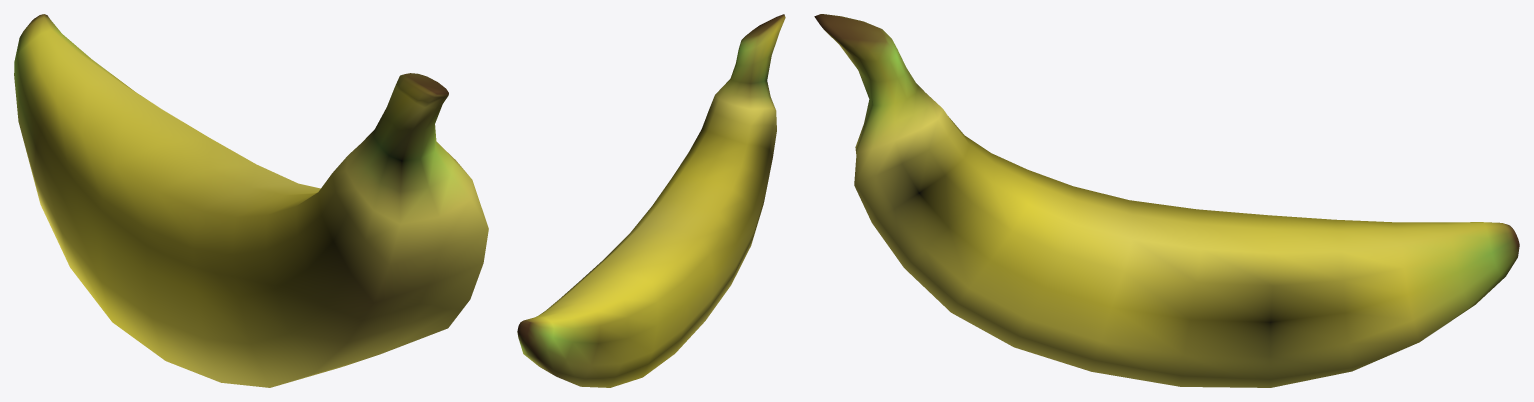
The model's file is Banana.fbx.
The picture shows the model from 3 angles, left to right: view 1: azimuth 30°, elevation 25°; view 2: azimuth 150°, elevation 25°; view 3: azimuth 270°, elevation 25°; orthographic projection. The views are drawn at different scales.
Visible parts, largest first — view 1: Cube; view 2: Cube; view 3: Cube.
Part boxes in pixels (x1,y1,x2,y2): Cube: (14, 14, 488, 387); Cube: (517, 14, 785, 387); Cube: (814, 14, 1519, 387).
Bounding box in the file's own units: 265 × 679 × 1239.
